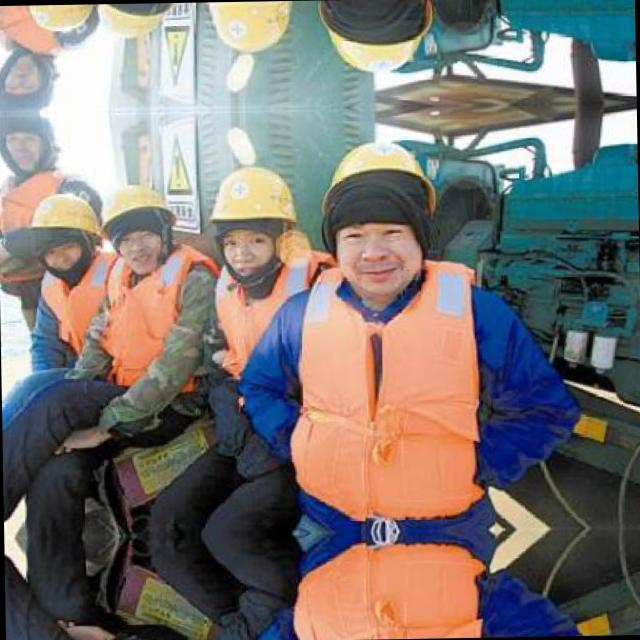helmet: (322, 134, 442, 316), (202, 155, 300, 281), (11, 177, 97, 287), (319, 0, 439, 77), (74, 174, 157, 276), (198, 0, 296, 60), (70, 3, 154, 47), (7, 4, 94, 45)
